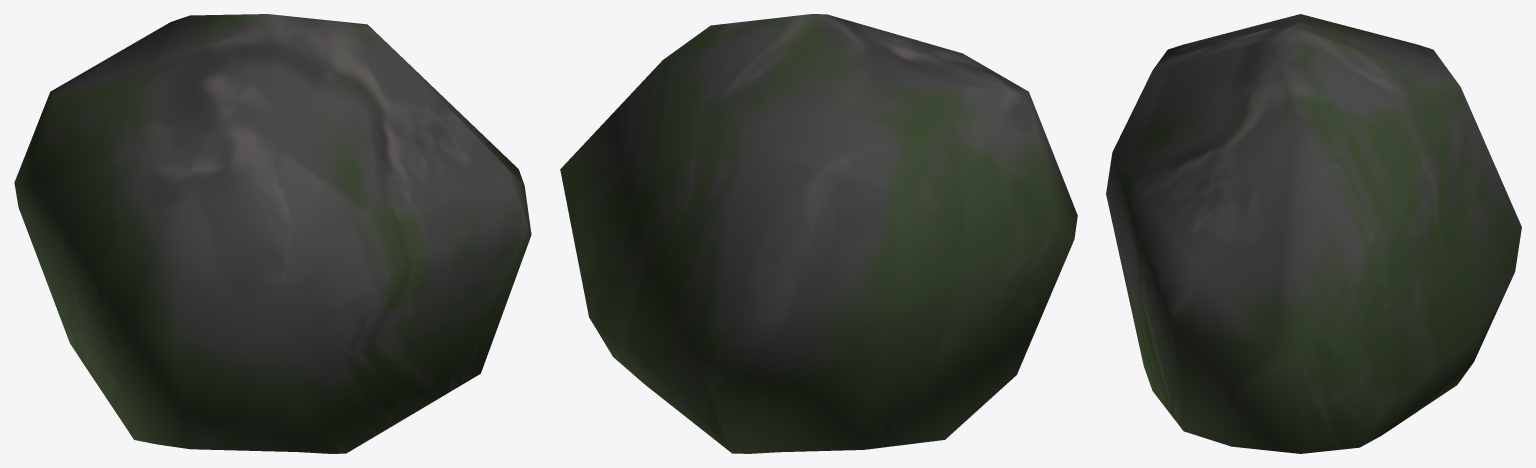
File: Rock 5.fbx
3 renders of one model, left to right at view 1: azimuth 30°, elevation 25°; view 2: azimuth 150°, elevation 25°; view 3: azimuth 270°, elevation 25°, orthographic. The views are drawn at different scales.
Visible parts, largest first — view 1: Rock 5; view 2: Rock 5; view 3: Rock 5.
Boxes of the visible parts, x1,y1,x2,y2 form: Rock 5: (14,14,531,453); Rock 5: (560,14,1077,453); Rock 5: (1106,14,1521,453).
Size of the model in its own units: 986 by 845 by 820.
